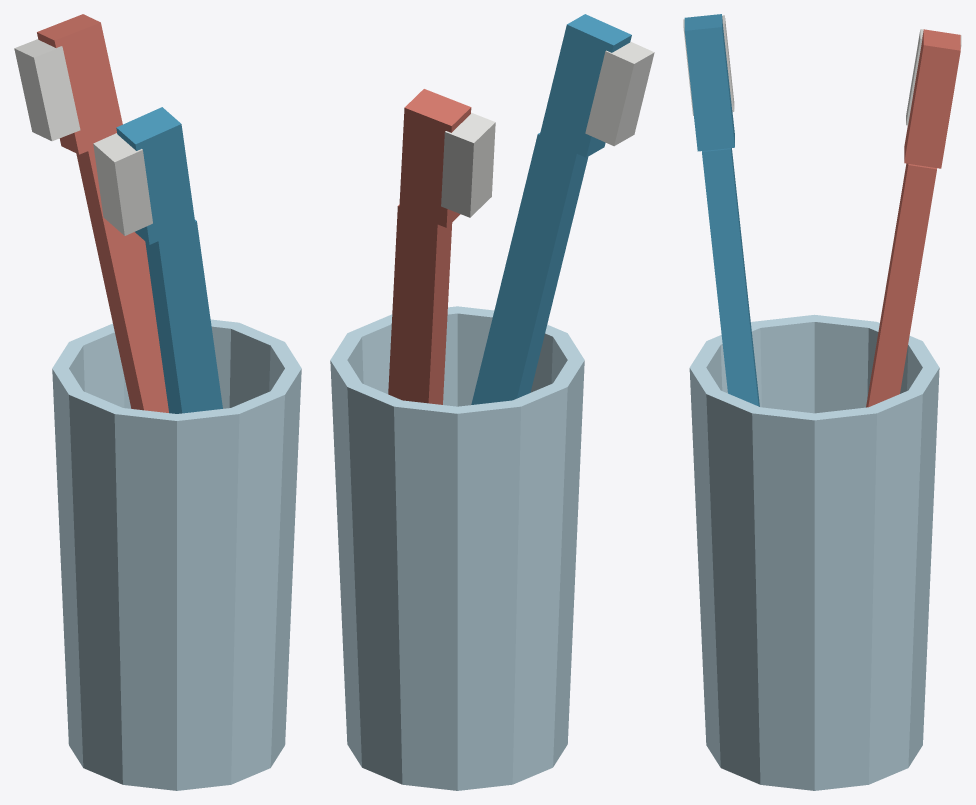
The model's file is Cepillos.fbx.
3 views of the same model, side by side, from view 1: azimuth 30°, elevation 25°; view 2: azimuth 150°, elevation 25°; view 3: azimuth 270°, elevation 25° (orthographic).
Parts seen in each view (by area): view 1: Deco_Vaso_Cepillos; view 2: Deco_Vaso_Cepillos; view 3: Deco_Vaso_Cepillos.
Boxes of the visible parts, <box> form: Deco_Vaso_Cepillos: <box>14,14,301,790</box>; Deco_Vaso_Cepillos: <box>330,14,654,790</box>; Deco_Vaso_Cepillos: <box>683,14,961,790</box>.
Bounding box in the file's own units: 0.0657 × 0.1826 × 0.0668.
